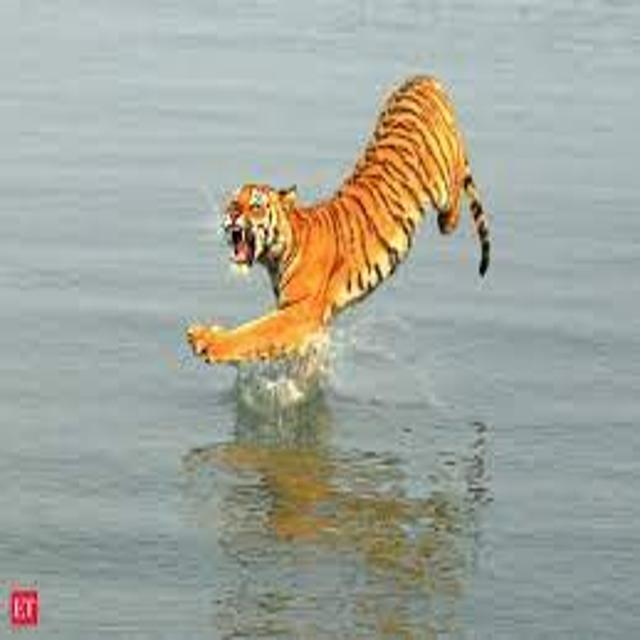tiger: (167, 52, 521, 417)
